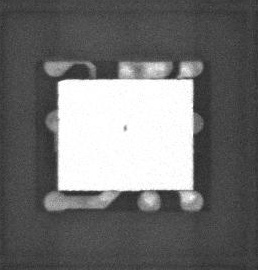DIE_INK: (116, 128, 122, 139)
